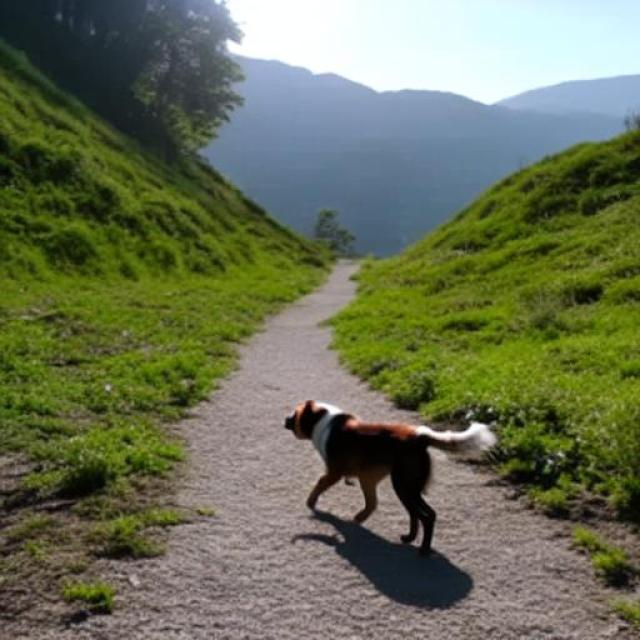Dog: (283, 397, 496, 552)
